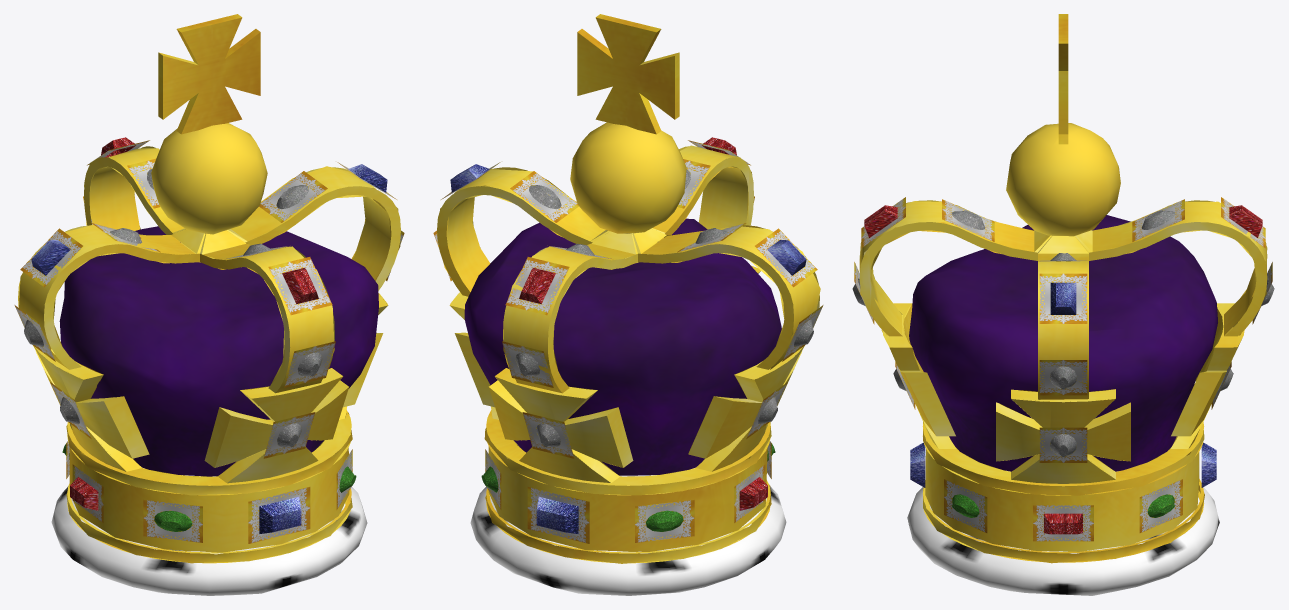
File: crown.fbx
3 views of the same model, side by side, from view 1: azimuth 30°, elevation 25°; view 2: azimuth 150°, elevation 25°; view 3: azimuth 270°, elevation 25° (orthographic).
Visible parts, largest first — view 1: Crown; view 2: Crown; view 3: Crown.
Boxes of the visible parts, box(x1,y1,x2,y2) form: Crown: box(14, 14, 404, 595); Crown: box(433, 14, 823, 595); Crown: box(852, 14, 1274, 595).
Size of the model in its own units: 352 by 470 by 352.
1 material, 1 textured.
